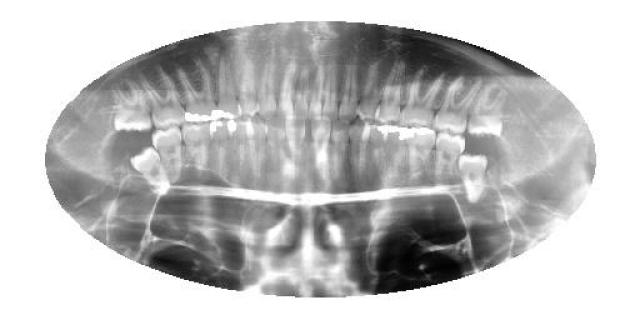Fillings: (178, 60, 216, 125), (408, 126, 438, 175), (210, 120, 235, 174), (376, 124, 400, 180), (216, 59, 238, 119), (393, 126, 412, 180)
Restorations: (456, 151, 490, 205)
